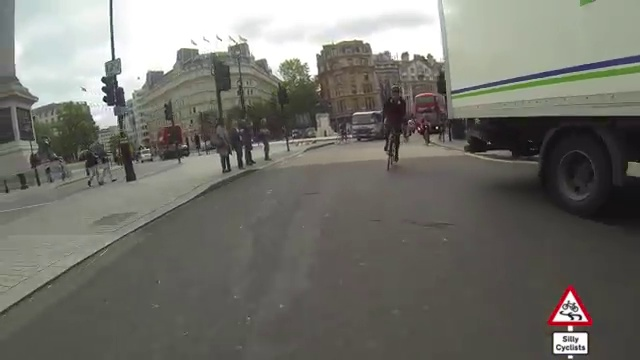cyclist_front: (375, 83, 409, 175)
